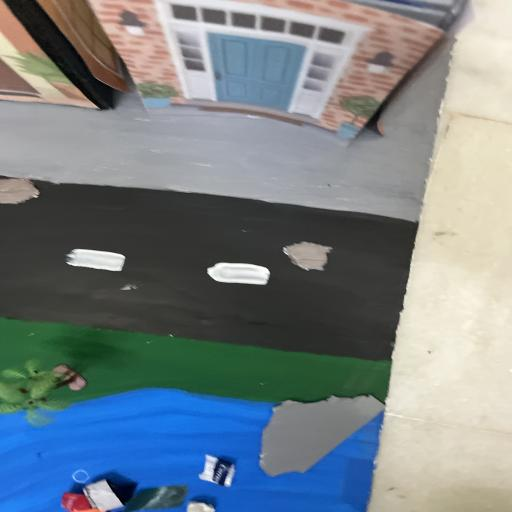encroachment: (256, 400, 379, 476)
porthole: (276, 241, 336, 274), (0, 176, 43, 208)
trash: (49, 454, 239, 512)
